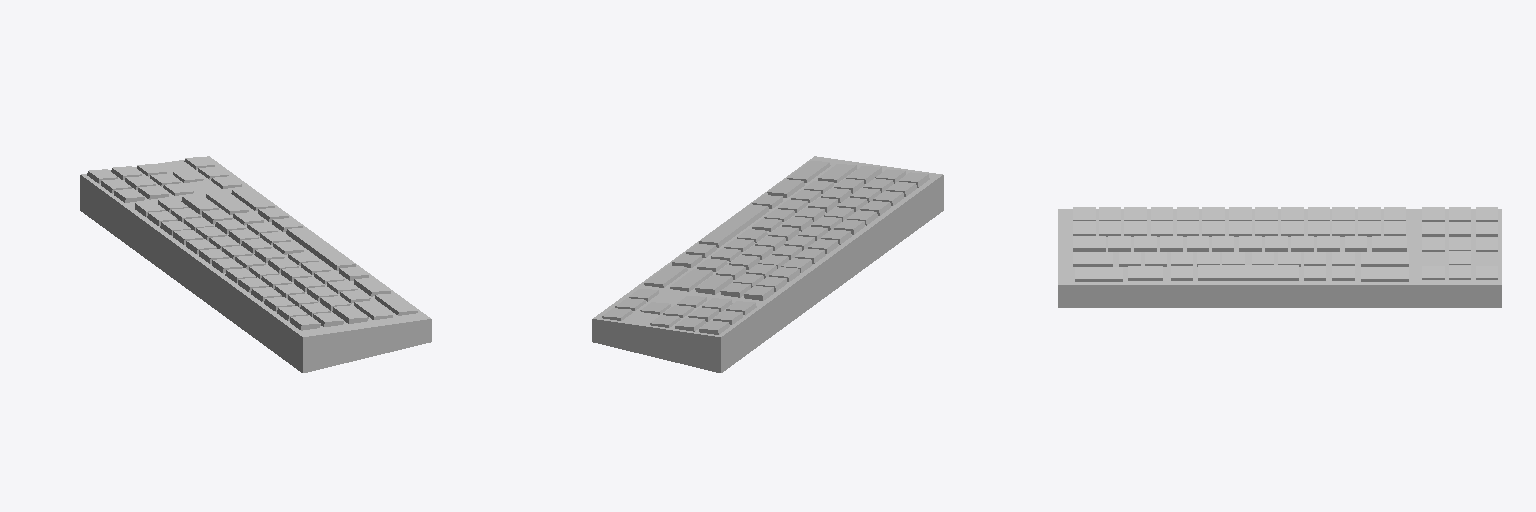
File: Keyboard_high.obj
The picture shows the model from 3 angles: view 1: azimuth 30°, elevation 25°; view 2: azimuth 150°, elevation 25°; view 3: azimuth 270°, elevation 25°; orthographic projection.
Visible parts, largest first — view 1: Keyboard1; view 2: Keyboard1; view 3: Keyboard1.
Part boxes in pixels (x1,y1,x2,y2): Keyboard1: (80,156,431,372); Keyboard1: (592,156,943,372); Keyboard1: (1058,207,1501,307).
Bounding box in the file's own units: 1.08 × 0.3298 × 3.23.